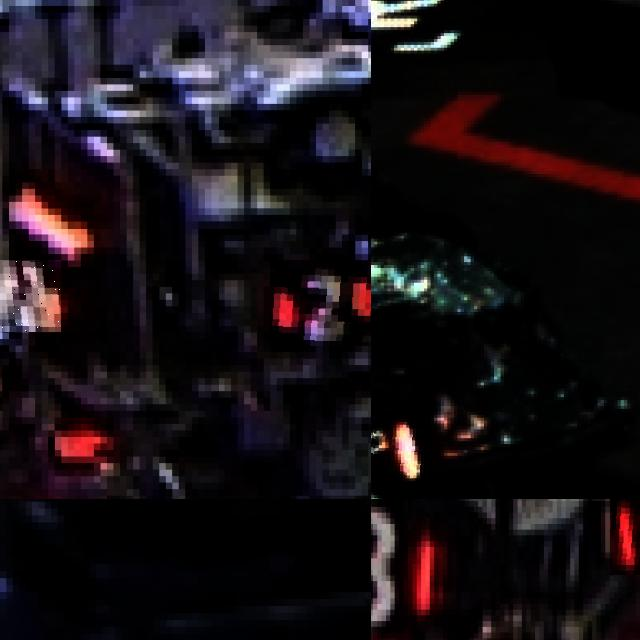R2: (270, 260, 371, 345), (0, 260, 61, 332)
R3: (371, 501, 447, 638)
Rs: (371, 411, 430, 499)
